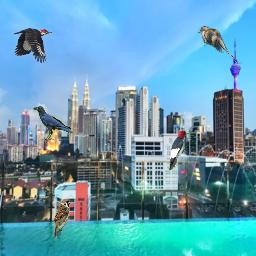Crow: (33, 106, 73, 140)
Cuckoo: (198, 26, 238, 64)
Sparrow: (53, 199, 70, 239)
Woodpecker: (12, 28, 52, 63), (168, 130, 190, 170)
